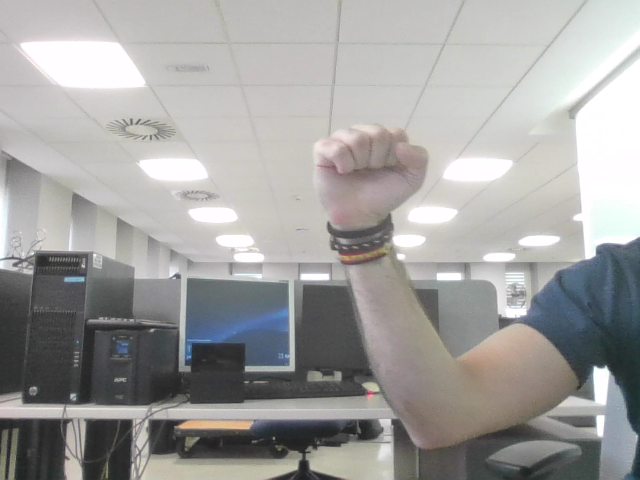Puño: (326, 133, 416, 200)
